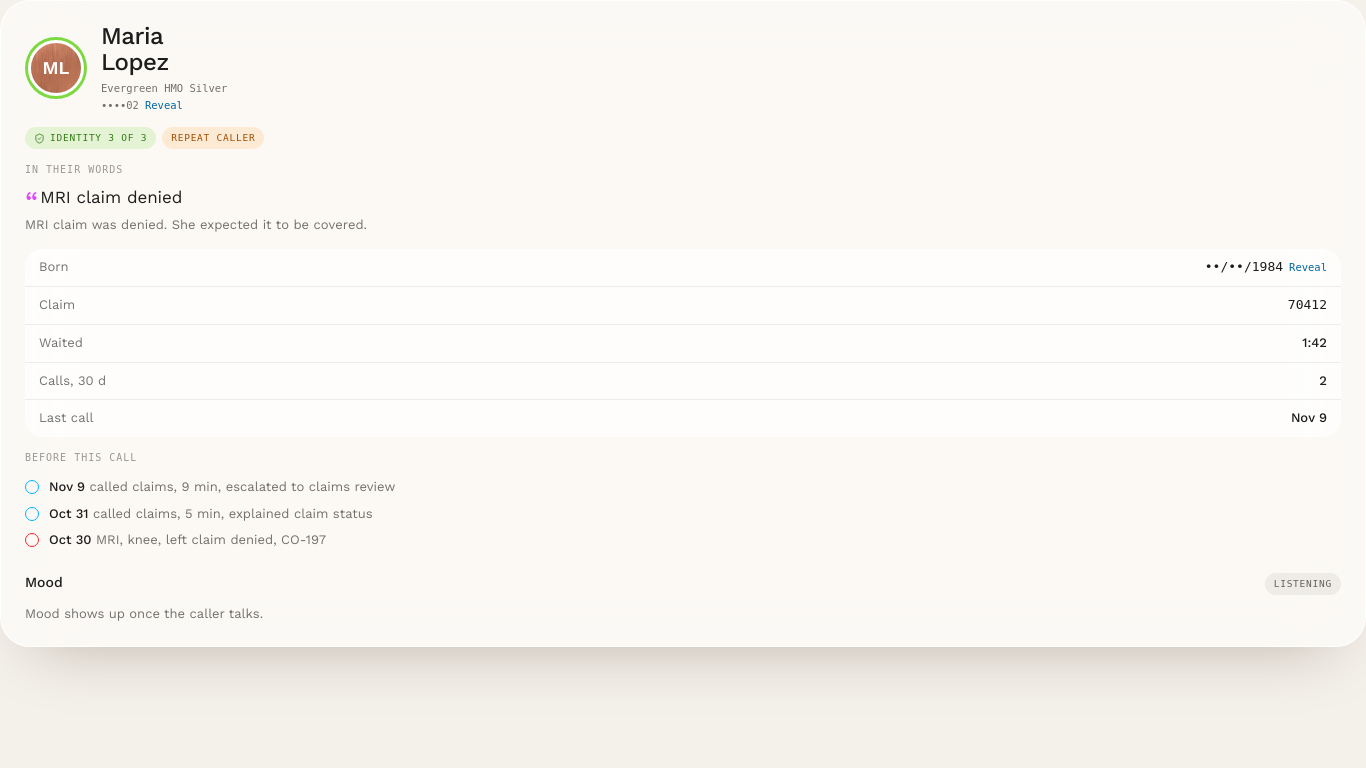
it: CallerPanel (AP-5, AP-13, AP-17, AP-18, DESIGN.md caller panel) › Reveal shows the member ID and DOB and asks the parent to log each reveal (AP-17)
Later steps or results of the test are not shown.
Click the button with aria-label "Reveal member ID". click: [164, 106]
box: [145,98,183,113]
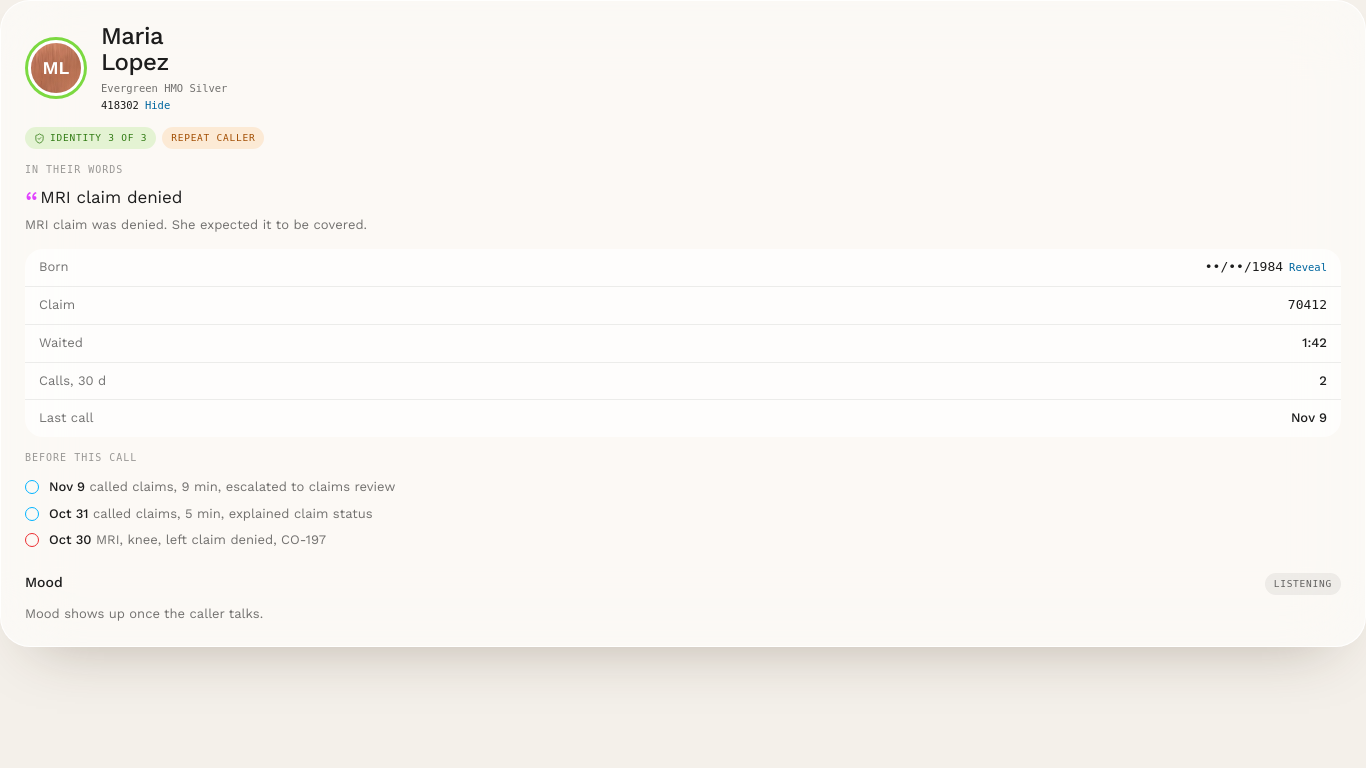
Now the text with test id "phi-member_id" reads "418302", box [101,99,139,111]
